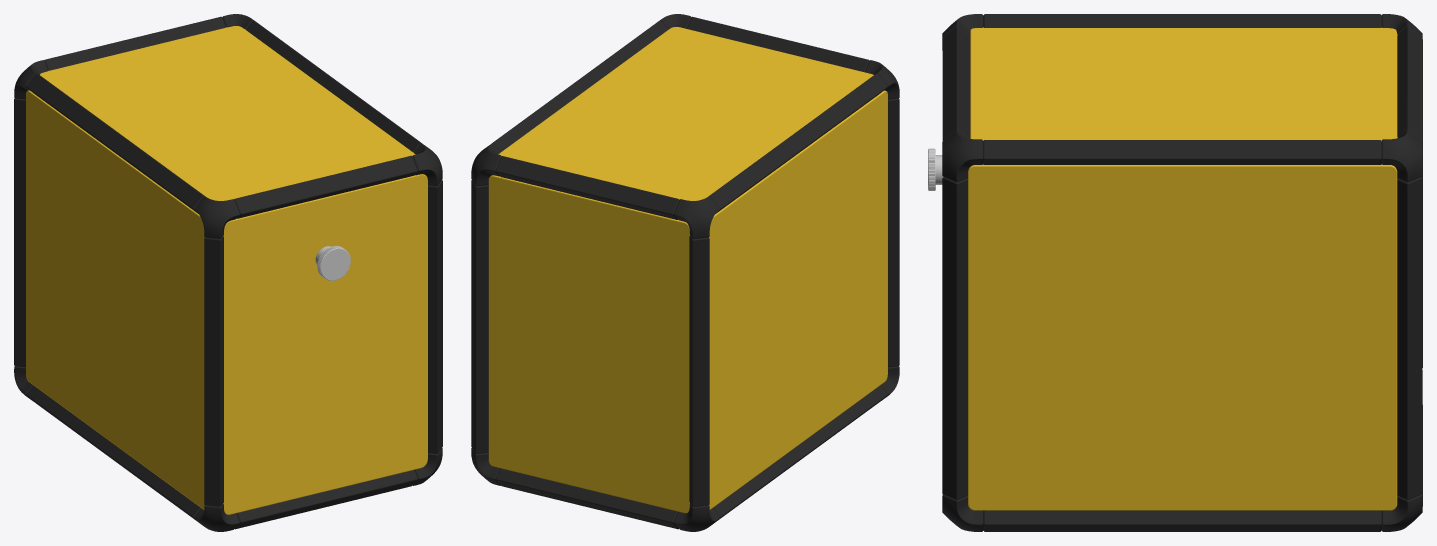
3 views of the same model, side by side, from view 1: azimuth 30°, elevation 25°; view 2: azimuth 150°, elevation 25°; view 3: azimuth 270°, elevation 25° (orthographic). The views are drawn at different scales.
Visible parts, largest first — view 1: 229x374x329; view 2: 229x374x329; view 3: 229x374x329.
Part boxes in pixels (bbox=[...]): 229x374x329: bbox=[14, 14, 442, 531]; 229x374x329: bbox=[471, 14, 899, 531]; 229x374x329: bbox=[928, 14, 1422, 531].
Bounding box in the file's own units: 0.3067 × 0.4066 × 0.4646.
